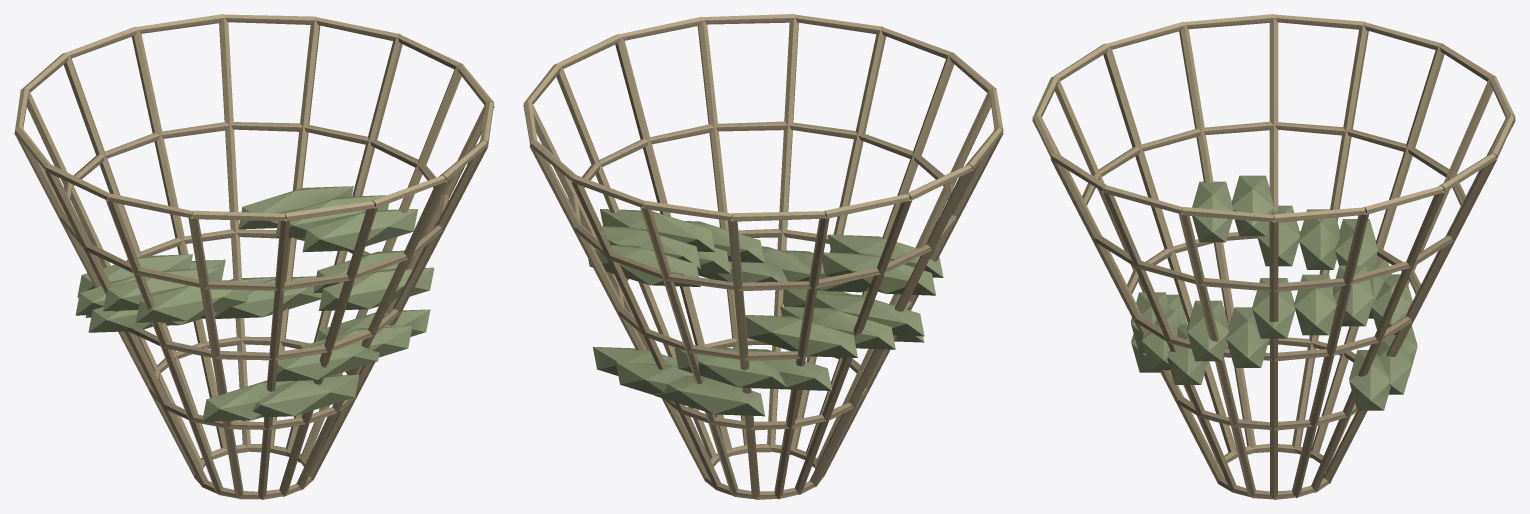
Rendered from net_full.glb.
The picture shows the model from 3 angles, left to right: view 1: azimuth 30°, elevation 25°; view 2: azimuth 150°, elevation 25°; view 3: azimuth 270°, elevation 25°; orthographic projection.
Visible parts, largest first — view 1: net_full; view 2: net_full; view 3: net_full.
Part boxes in pixels (x1,y1,x2,y2): net_full: (14,14,494,499); net_full: (523,14,1003,499); net_full: (1032,14,1515,499).
Size of the model in its own units: 1.43 by 1.18 by 1.43.
